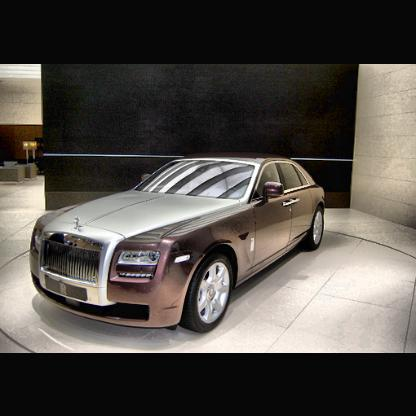Rolls-Royce Ghost Sedan 2012: (28, 156, 328, 335)
